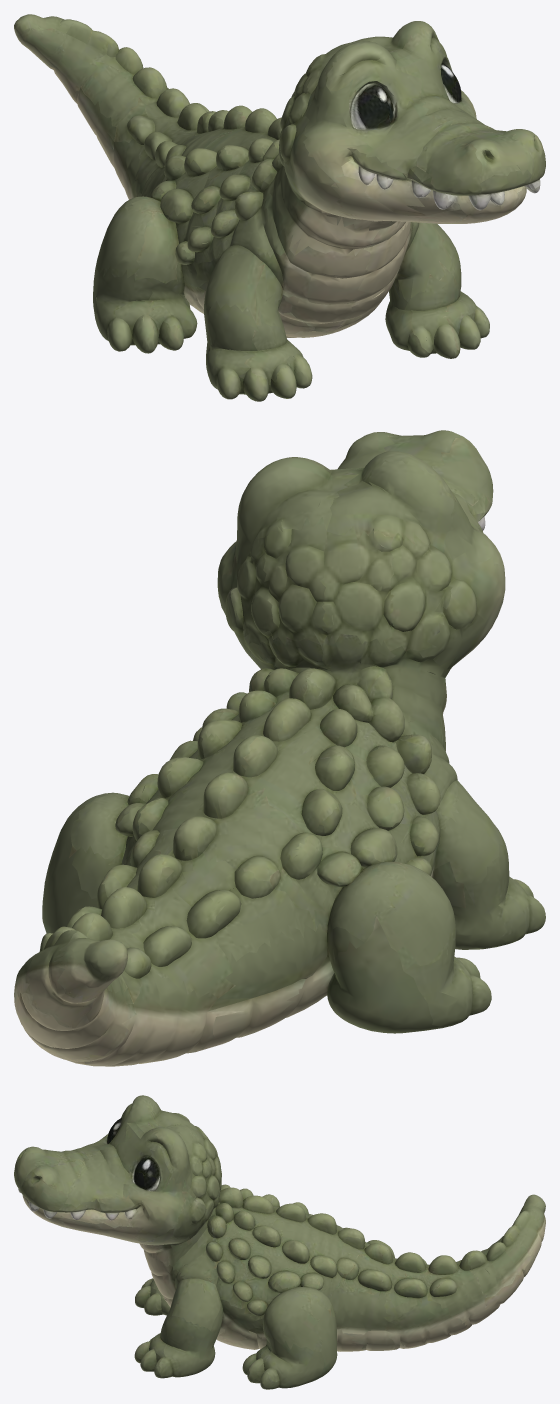
3 renders of one model, top to bottom at view 1: azimuth 30°, elevation 25°; view 2: azimuth 150°, elevation 25°; view 3: azimuth 270°, elevation 25°, orthographic. The views are drawn at different scales.
Parts seen in each view (by area): view 1: output_unwrapped; view 2: output_unwrapped; view 3: output_unwrapped.
Part boxes in pixels (x1,y1,x2,y2): output_unwrapped: (14, 14, 545, 401); output_unwrapped: (14, 430, 545, 1066); output_unwrapped: (14, 1095, 545, 1389).
Bounding box in the file's own units: 0.9617 × 0.9202 × 1.9.
1 material, 1 textured.
